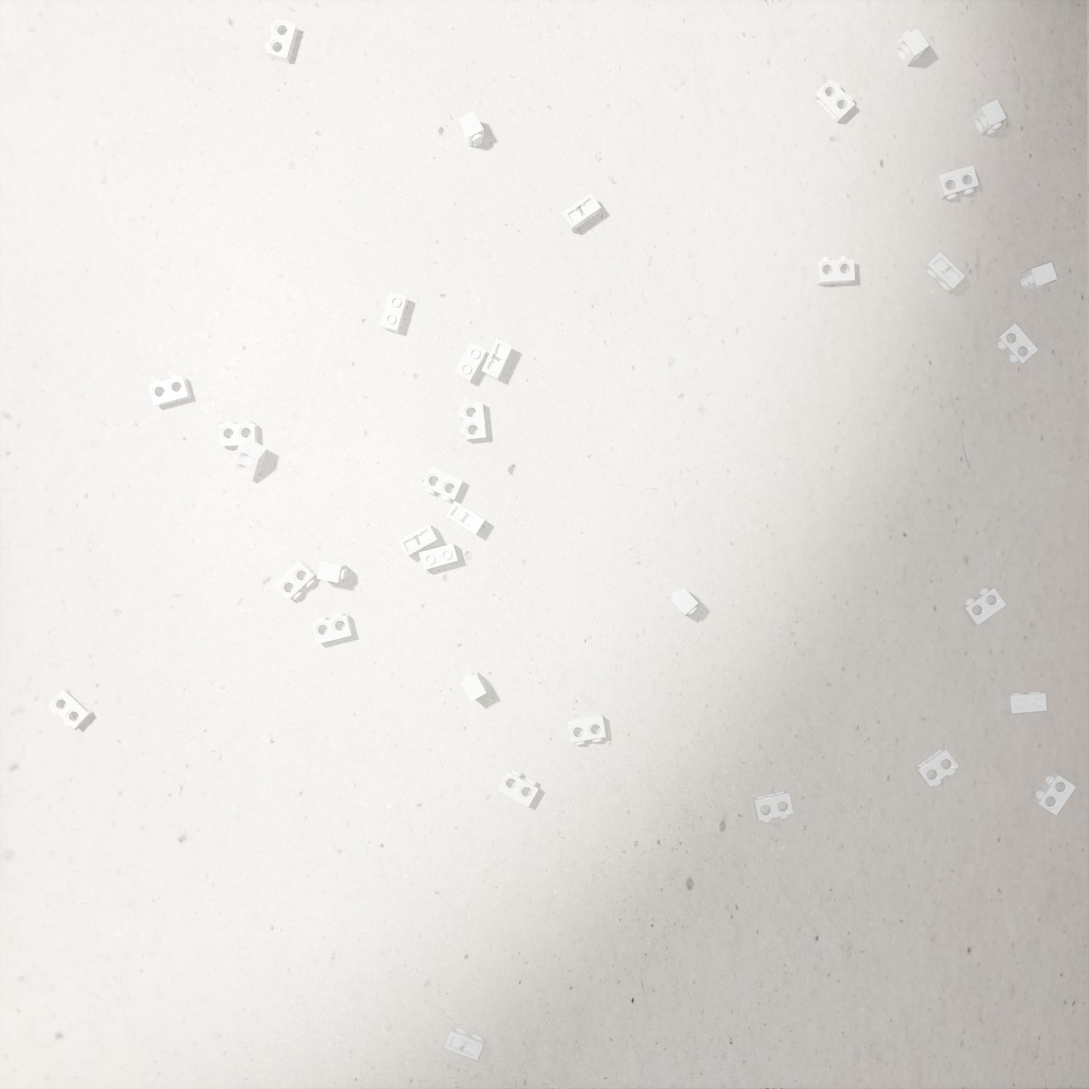lego: (812, 79, 855, 124), (994, 323, 1039, 366), (1033, 772, 1076, 816), (48, 688, 93, 729), (914, 747, 959, 787), (961, 587, 1007, 626), (273, 560, 316, 600), (923, 252, 966, 292), (497, 769, 539, 808), (265, 18, 299, 64), (935, 165, 979, 200), (562, 193, 601, 232), (422, 466, 464, 502), (233, 438, 267, 481), (148, 374, 192, 407), (444, 1025, 484, 1061), (445, 501, 486, 535), (752, 790, 794, 823), (895, 28, 930, 67), (454, 342, 487, 383), (398, 524, 439, 557), (971, 99, 1007, 136), (312, 612, 353, 644), (482, 338, 513, 380), (380, 291, 409, 333), (567, 714, 606, 745), (1020, 262, 1058, 292), (816, 256, 855, 285), (458, 402, 487, 440), (419, 543, 459, 570), (219, 420, 258, 447), (458, 110, 485, 147), (1004, 691, 1047, 713), (668, 586, 698, 615), (460, 671, 488, 702), (317, 561, 348, 583)
